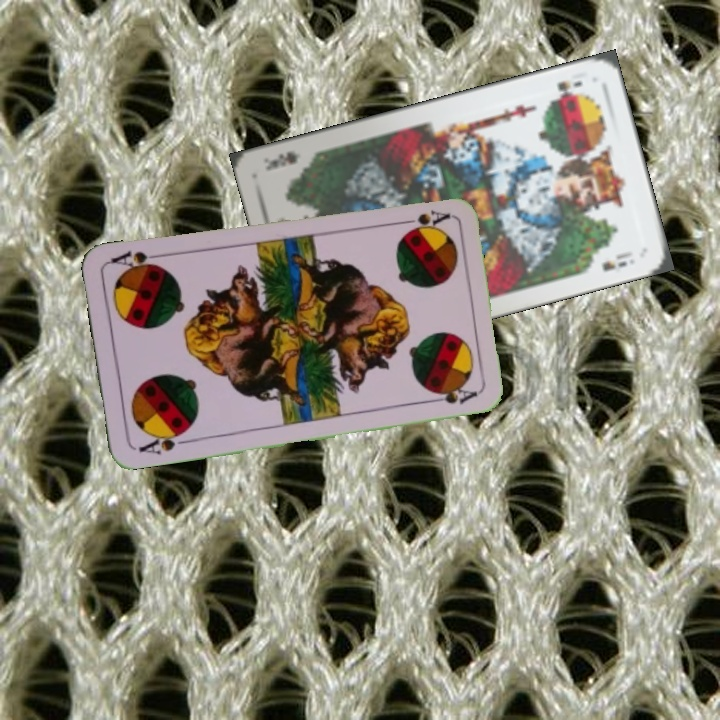SA: (135, 426, 192, 457), (393, 206, 452, 233)
SK: (553, 76, 586, 99)
